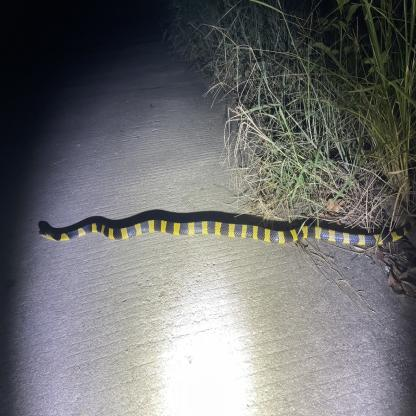Snake: (39, 213, 405, 247)
